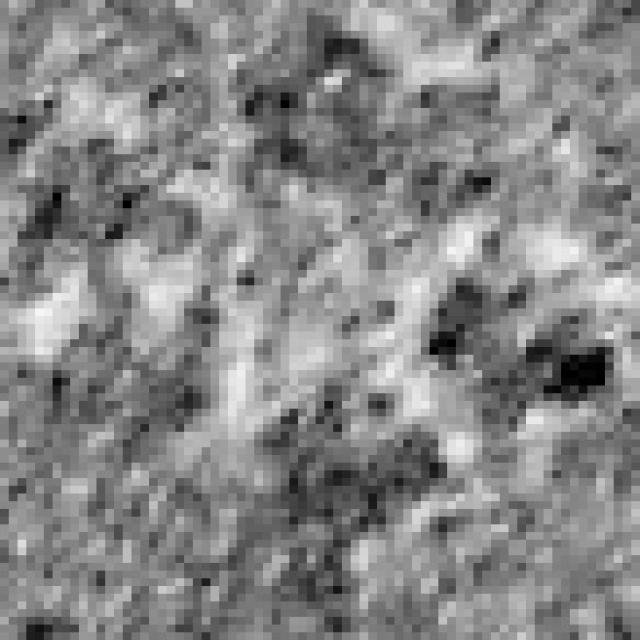inner: (208, 207, 403, 405)
lobe: (39, 278, 232, 471), (252, 383, 451, 552), (8, 133, 201, 298), (233, 17, 393, 206), (422, 277, 624, 409), (390, 85, 570, 231)
outer: (0, 2, 640, 593)
